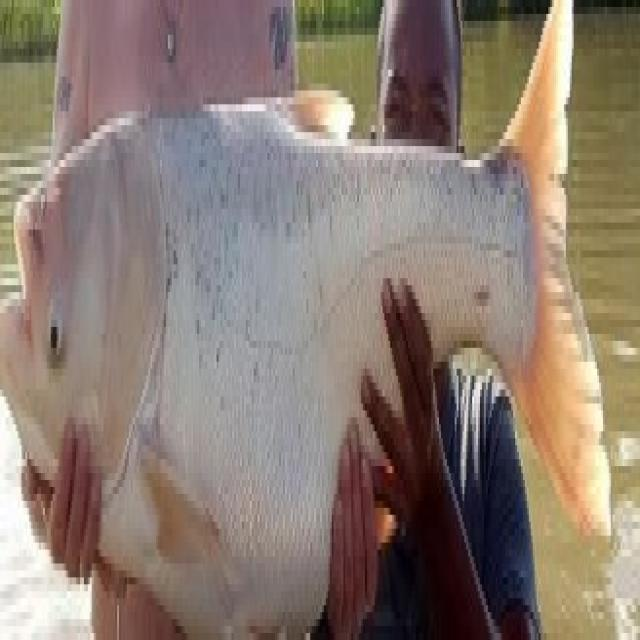Big-Head-Carp: (4, 77, 636, 637)
